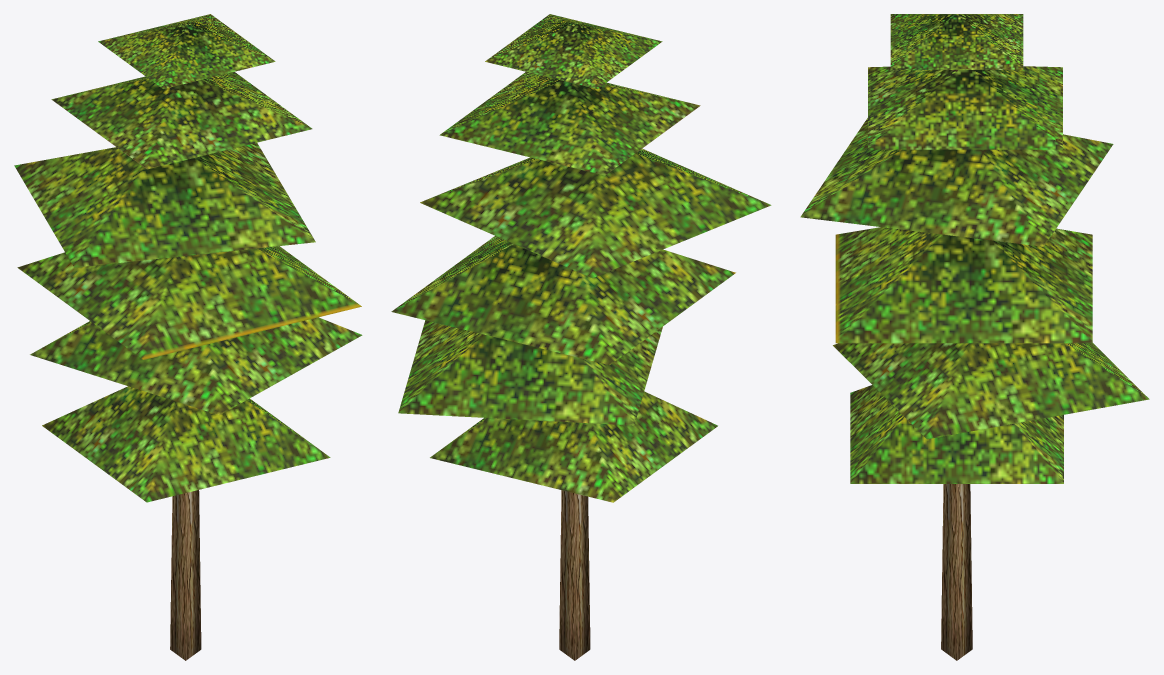
File: oak_tree_base.glb
3 views of the same model, side by side, from view 1: azimuth 30°, elevation 25°; view 2: azimuth 150°, elevation 25°; view 3: azimuth 270°, elevation 25° (orthographic).
Parts seen in each view (by area): view 1: MeshRoot; view 2: MeshRoot; view 3: MeshRoot.
Part boxes in pixels (x1,y1,x2,y2): MeshRoot: (14,14,362,660); MeshRoot: (391,14,771,660); MeshRoot: (800,14,1149,660).
Size of the model in its own units: 4.58 by 8.69 by 4.3.
1 material, 1 textured.
